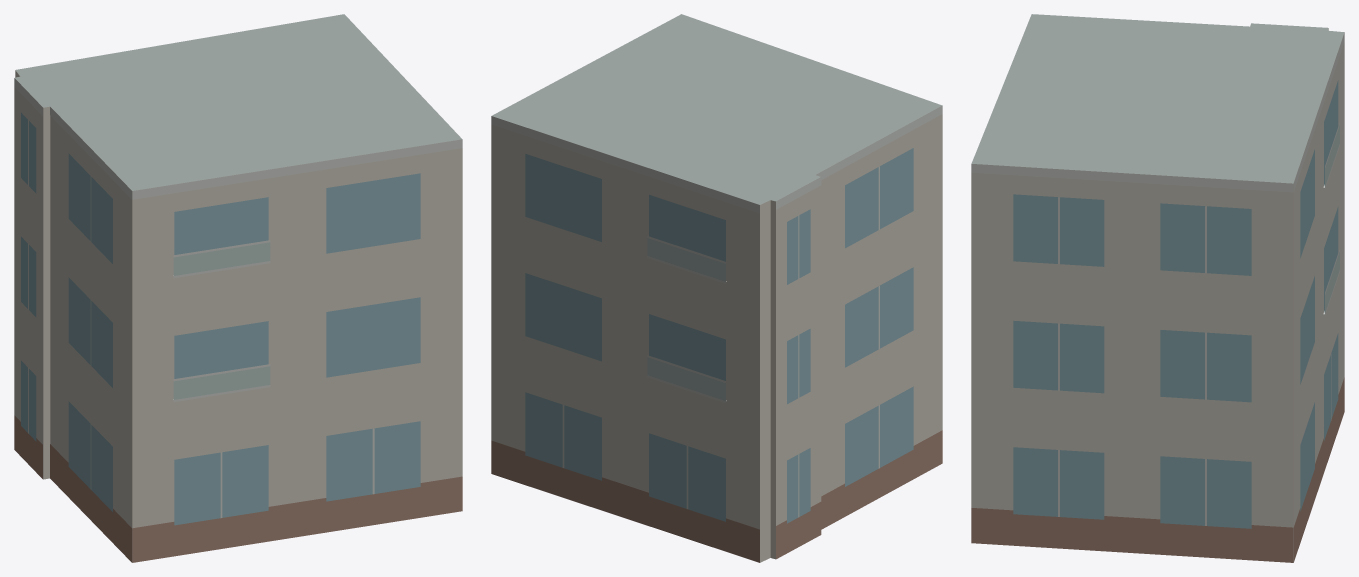
File: survey-upis-33003417.glb
3 renders of one model, left to right at view 1: azimuth 30°, elevation 25°; view 2: azimuth 150°, elevation 25°; view 3: azimuth 270°, elevation 25°, orthographic. The views are drawn at different scales.
Parts seen in each view (by area): view 1: survey-upis-33003417.tmp; view 2: survey-upis-33003417.tmp; view 3: survey-upis-33003417.tmp.
Part boxes in pixels (x1=…): survey-upis-33003417.tmp: x1=14, y1=14, x2=462, y2=562; survey-upis-33003417.tmp: x1=491, y1=14, x2=942, y2=562; survey-upis-33003417.tmp: x1=971, y1=14, x2=1344, y2=562.
Bounding box in the file's own units: 9.96 × 10.38 × 9.27.
